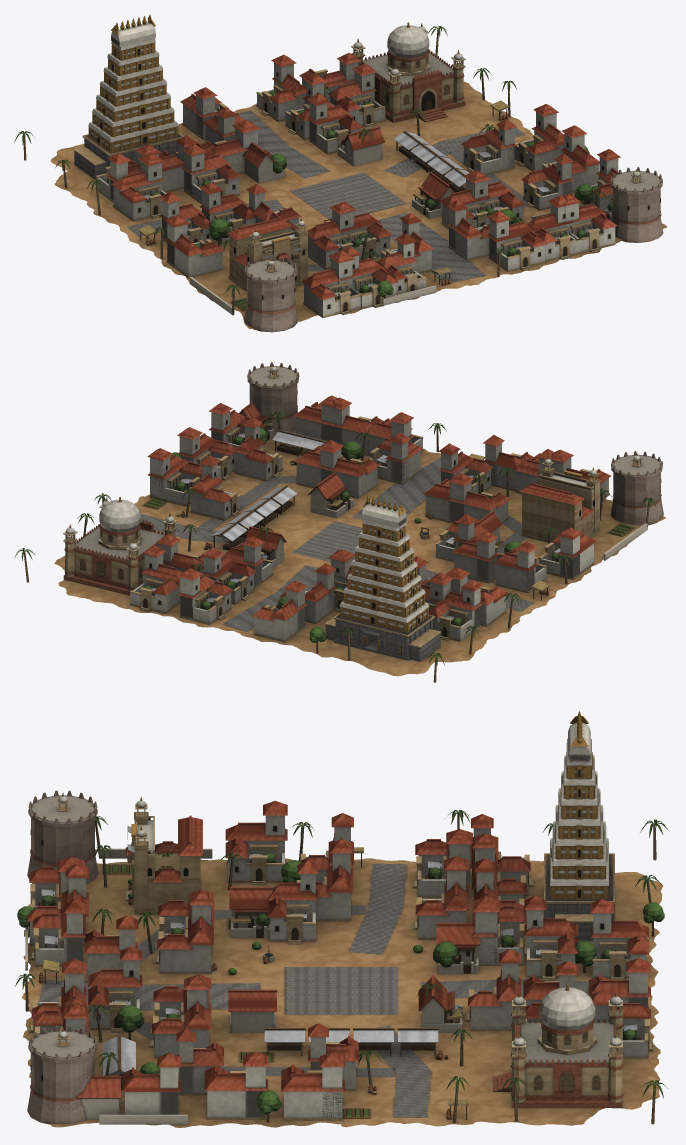
Rendered from kingdoms-town-big-a-indic-8007080d.glb.
3 renders of one model, top to bottom at view 1: azimuth 30°, elevation 25°; view 2: azimuth 150°, elevation 25°; view 3: azimuth 270°, elevation 25°, orthographic. The views are drawn at different scales.
Visible parts, largest first — view 1: LOD0; view 2: LOD0; view 3: LOD0.
Boxes of the visible parts, bbox=[...] form: LOD0: bbox=[14, 14, 666, 332]; LOD0: bbox=[14, 362, 665, 682]; LOD0: bbox=[15, 711, 668, 1127].
Size of what is drawn, in the model's own units: 8.19 by 2.62 by 8.15.
3 materials, 3 textured.
